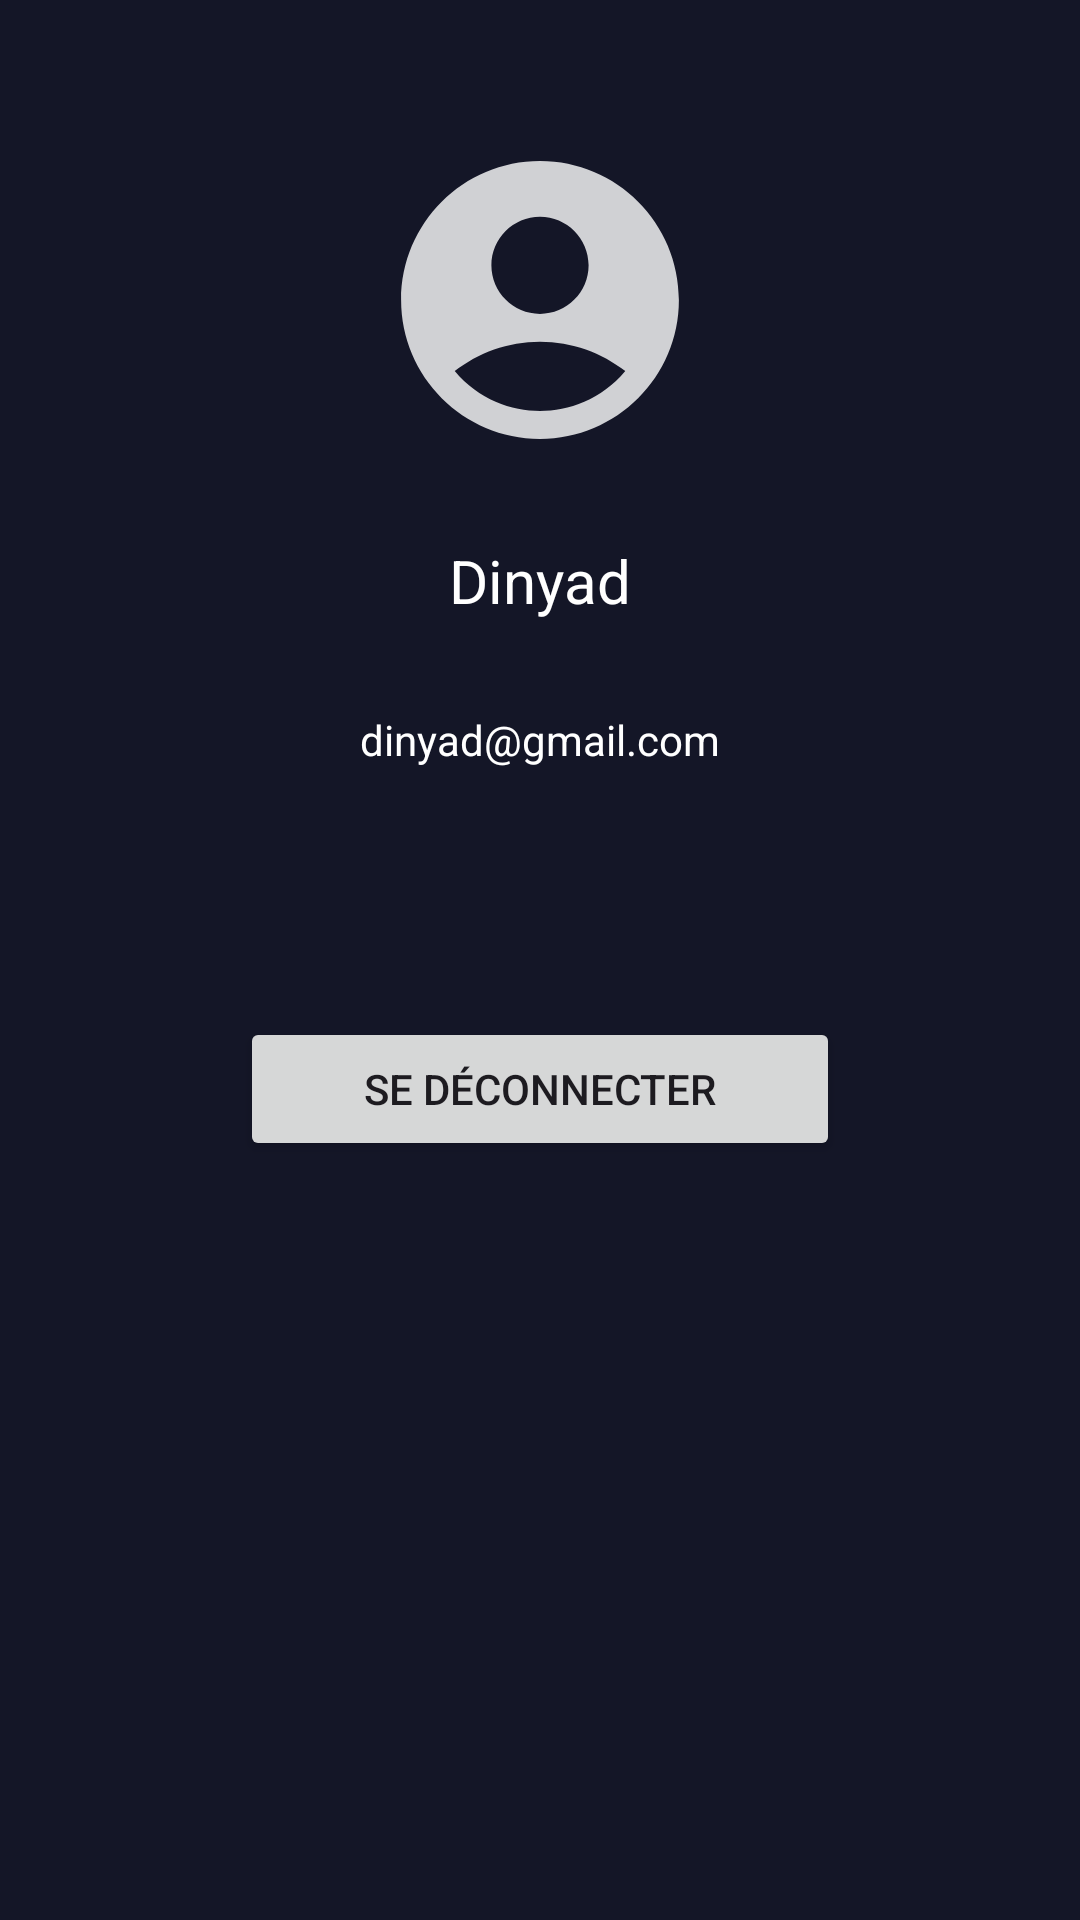

Named icons in this screenshot (1080w x 1920h) and their bounding boxes, [x1,y1,x2,y2]:
user: [401,161,679,439]
